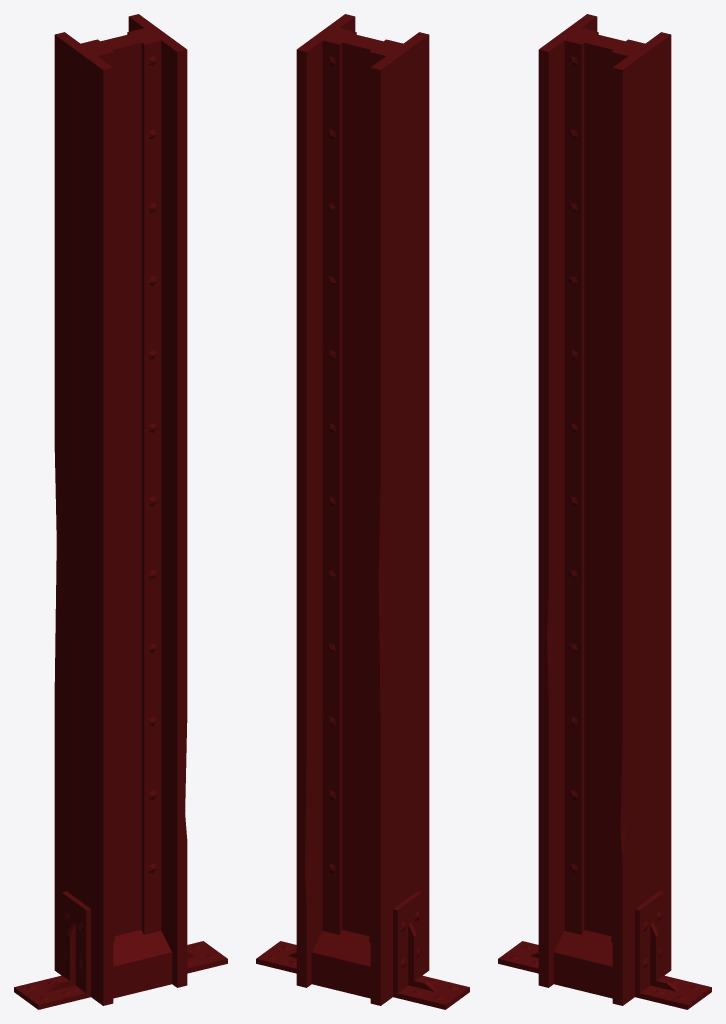
Rendered from SW_ENV_PillarGirderTrack_4-25m.fbx.
3 views of the same model, side by side, from view 1: azimuth 30°, elevation 25°; view 2: azimuth 150°, elevation 25°; view 3: azimuth 330°, elevation 25° (orthographic).
Visible parts, largest first — view 1: SW_ENV_PillarGirderTrack_4-25m; view 2: SW_ENV_PillarGirderTrack_4-25m; view 3: SW_ENV_PillarGirderTrack_4-25m.
Boxes of the visible parts, bbox=[...] form: SW_ENV_PillarGirderTrack_4-25m: bbox=[14, 14, 227, 1009]; SW_ENV_PillarGirderTrack_4-25m: bbox=[256, 14, 469, 1009]; SW_ENV_PillarGirderTrack_4-25m: bbox=[498, 14, 711, 1009].
Size of the model in its own units: 90 by 425 by 40.
